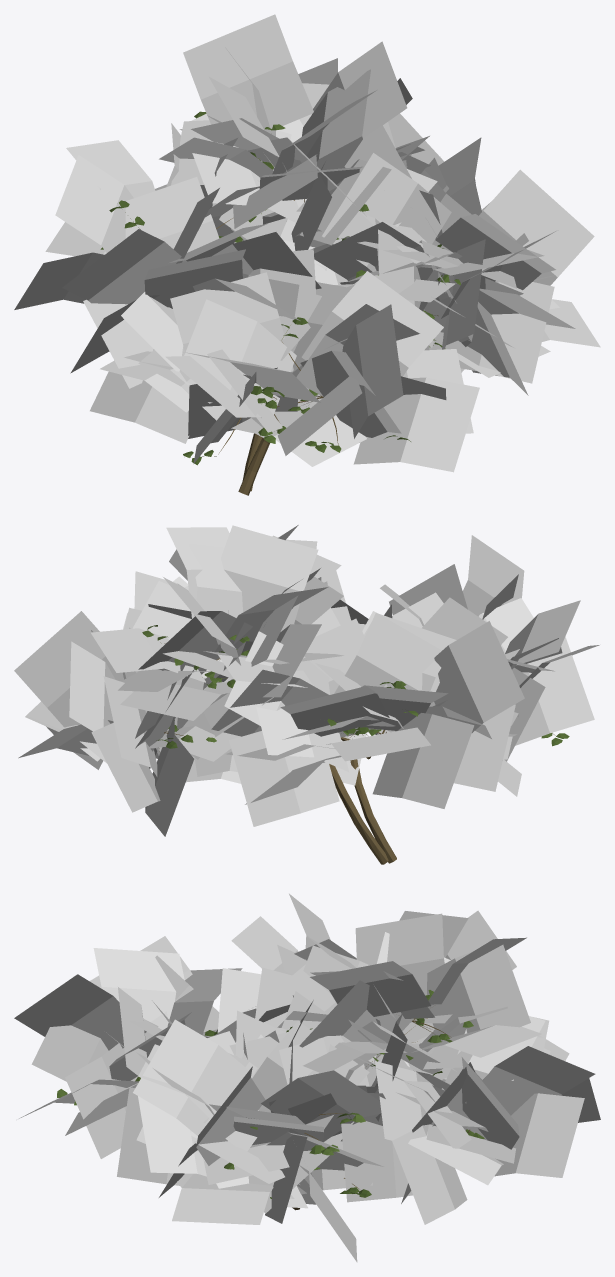
File: Lentisque_Incline_LOD1.fbx
3 views of the same model, one above another, from view 1: azimuth 30°, elevation 25°; view 2: azimuth 150°, elevation 25°; view 3: azimuth 270°, elevation 25° (orthographic). The views are drawn at different scales.
Parts seen in each view (by area): view 1: Lentisque_Incline_LOD1; view 2: Lentisque_Incline_LOD1; view 3: Lentisque_Incline_LOD1.
Boxes of the visible parts, left/top/right/bottom form: Lentisque_Incline_LOD1: left=14, top=14, right=600, bottom=495; Lentisque_Incline_LOD1: left=14, top=525, right=599, bottom=864; Lentisque_Incline_LOD1: left=14, top=893, right=600, bottom=1262.
Bounding box in the file's own units: 299 × 219 × 351.
